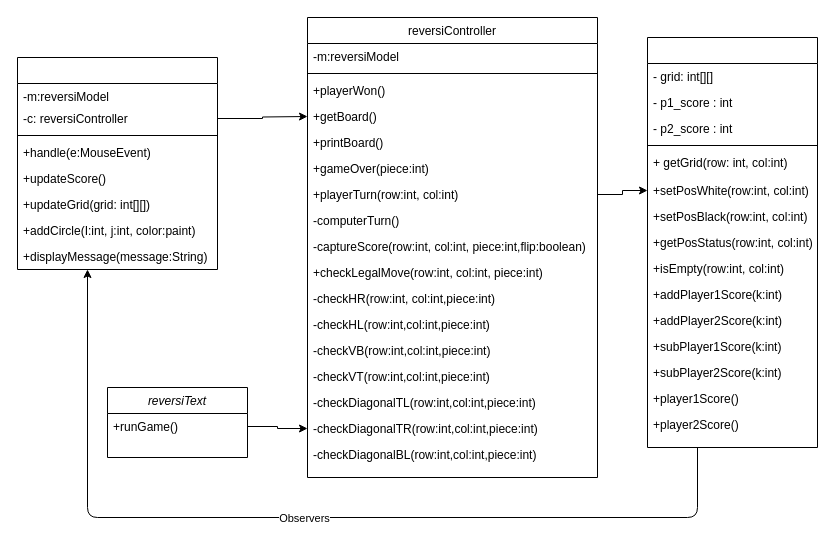
Image size: 835x543. Some labels were removed from this diagram. Each missing label, with the box of its shape:
reversiGUI: (16, 56, 218, 270)
reversiModel: (646, 36, 818, 448)
